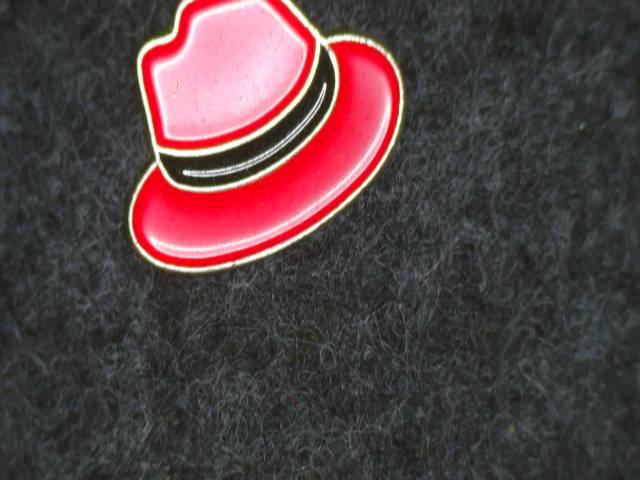Red-Hat: (124, 0, 408, 294)
